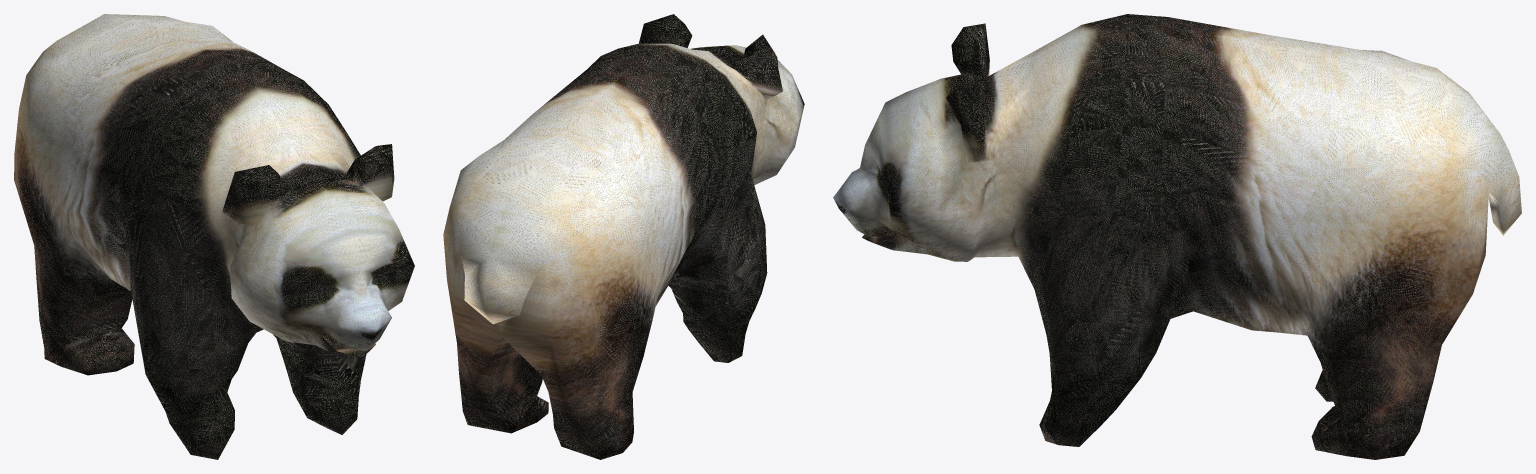
Rendered from panda.dae.
The picture shows the model from 3 angles, left to right: view 1: azimuth 30°, elevation 25°; view 2: azimuth 150°, elevation 25°; view 3: azimuth 270°, elevation 25°; orthographic projection. The views are drawn at different scales.
Parts seen in each view (by area): view 1: SketchUp; view 2: SketchUp; view 3: SketchUp.
Part boxes in pixels (x1,y1,x2,y2): SketchUp: [14, 14, 414, 459]; SketchUp: [443, 14, 804, 459]; SketchUp: [833, 14, 1521, 459].
Size of the model in its own units: 24.4 by 60.23 by 37.33.
Materials: 2 (1 with a texture image).
